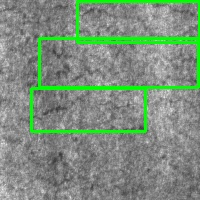crazing: (39, 38, 198, 87), (77, 1, 199, 42), (32, 88, 145, 131)
